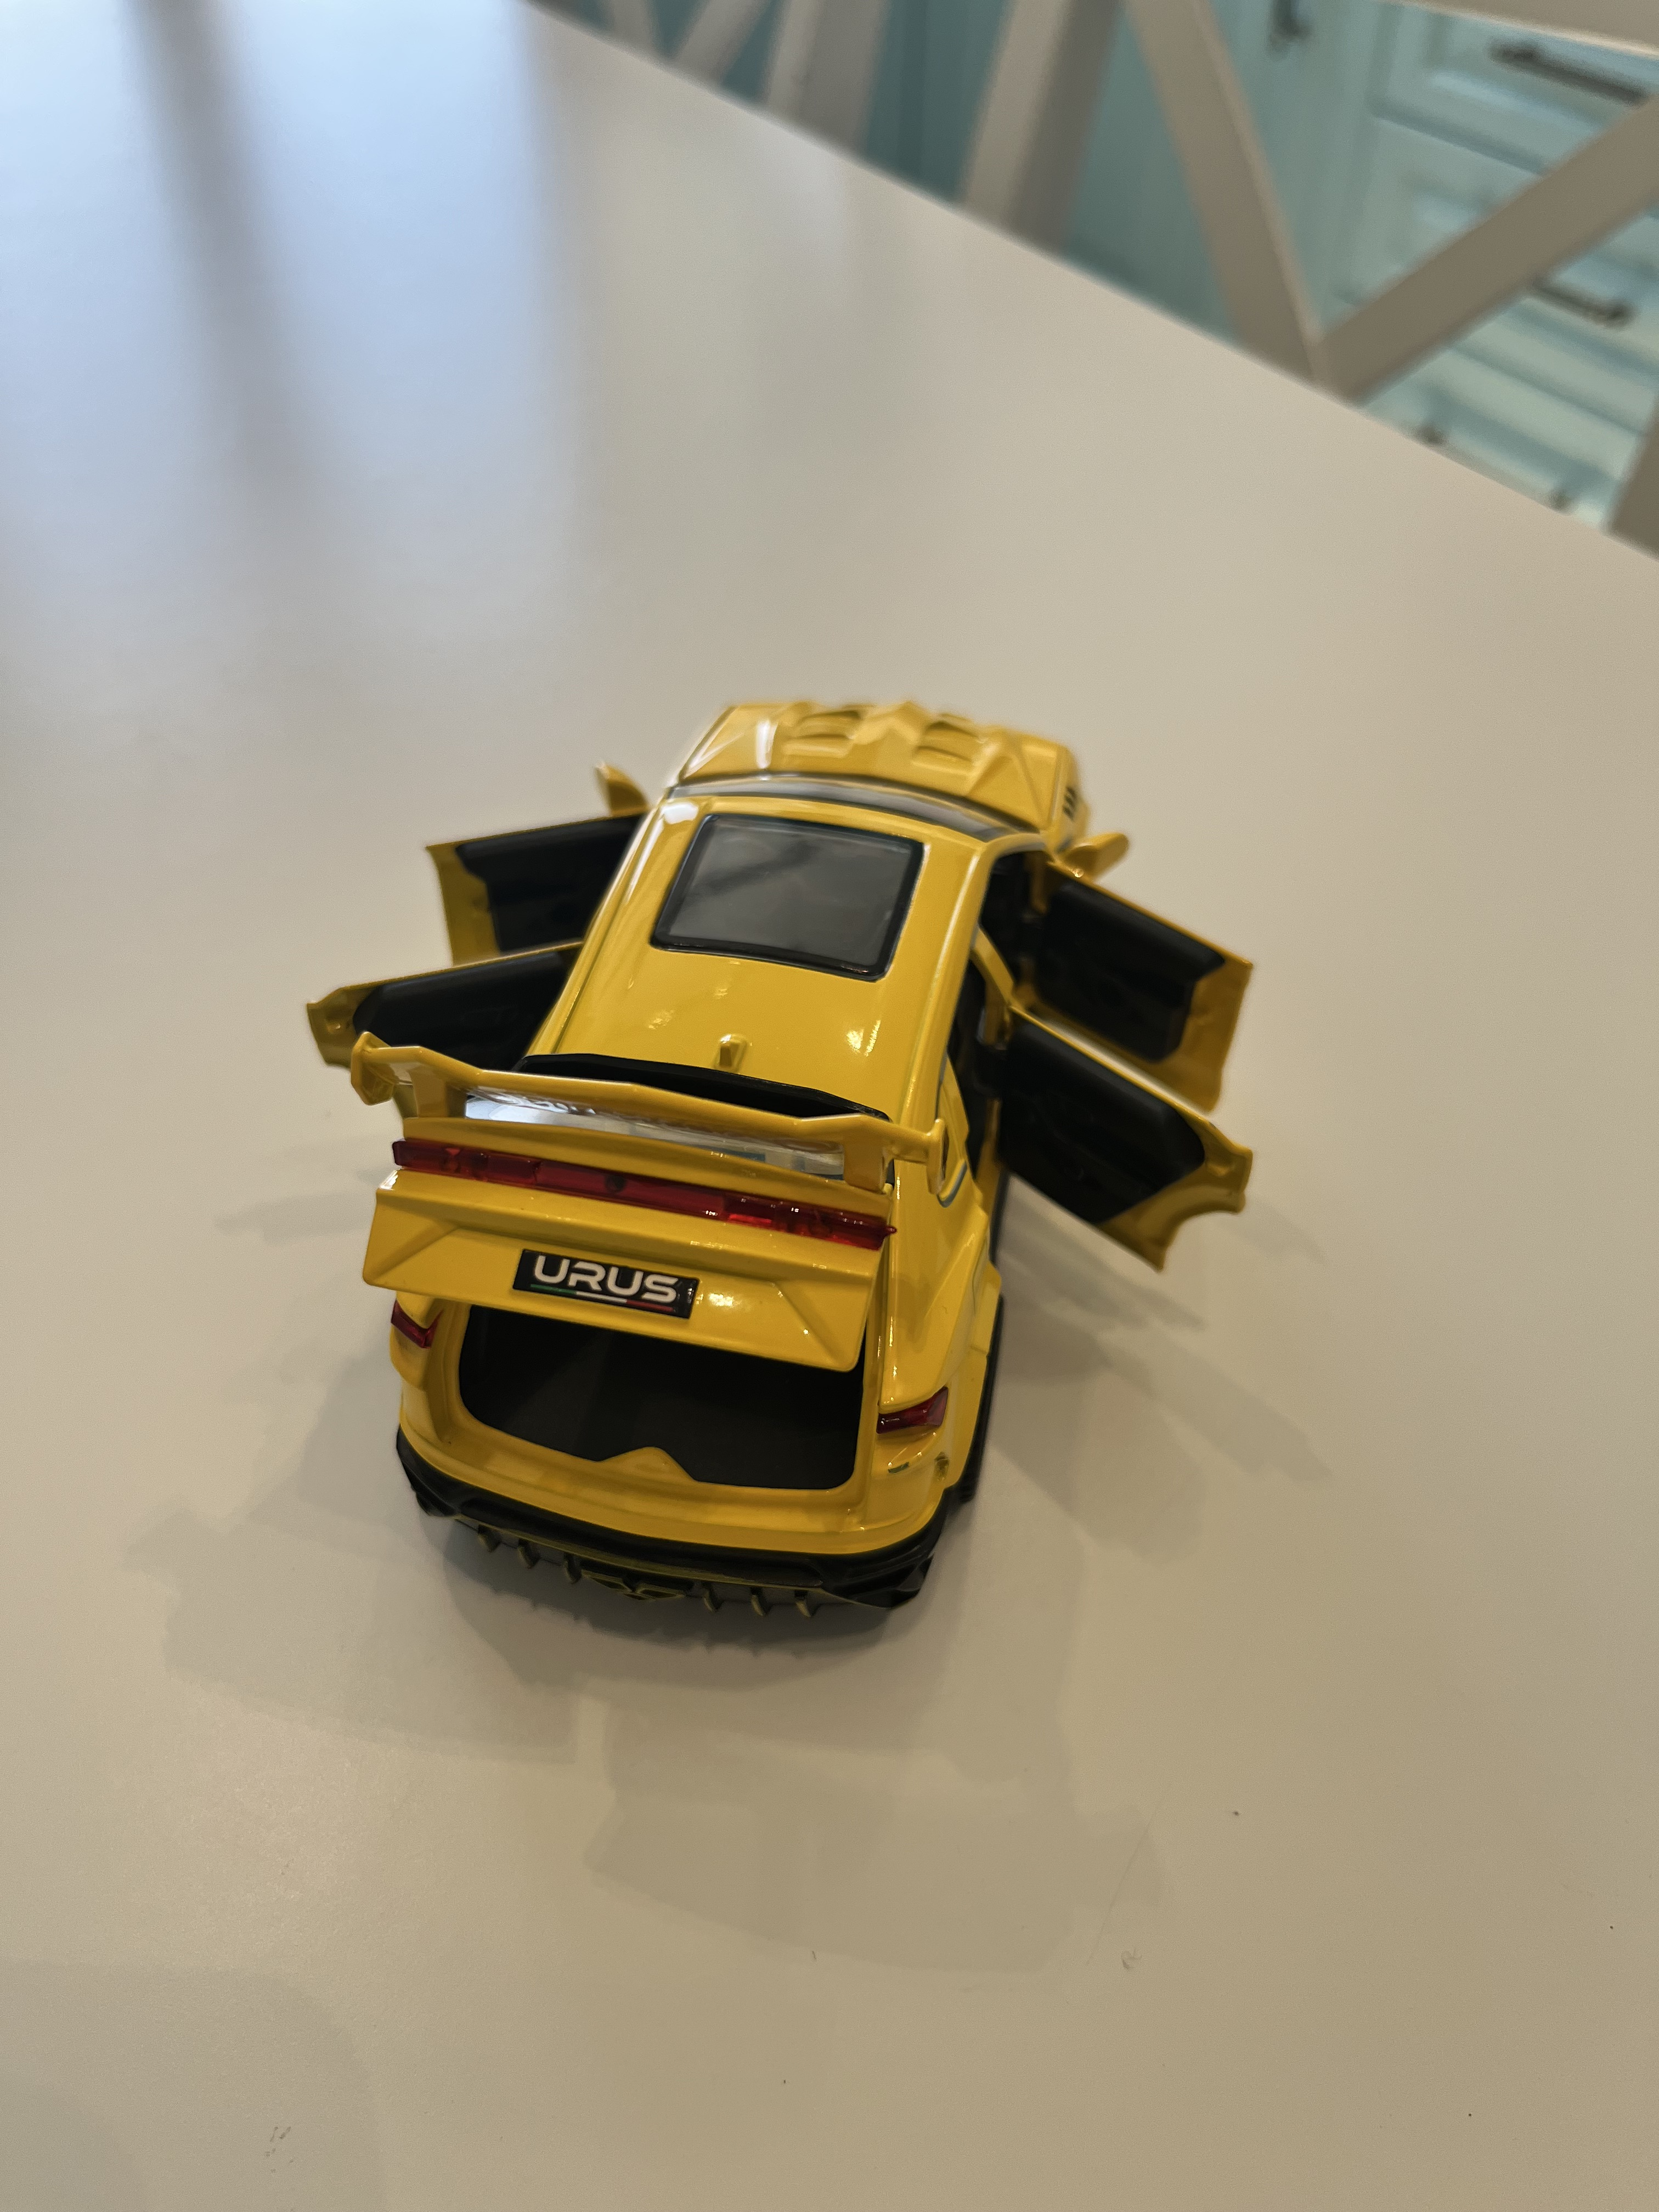lambo: (223, 618, 1269, 1597)
